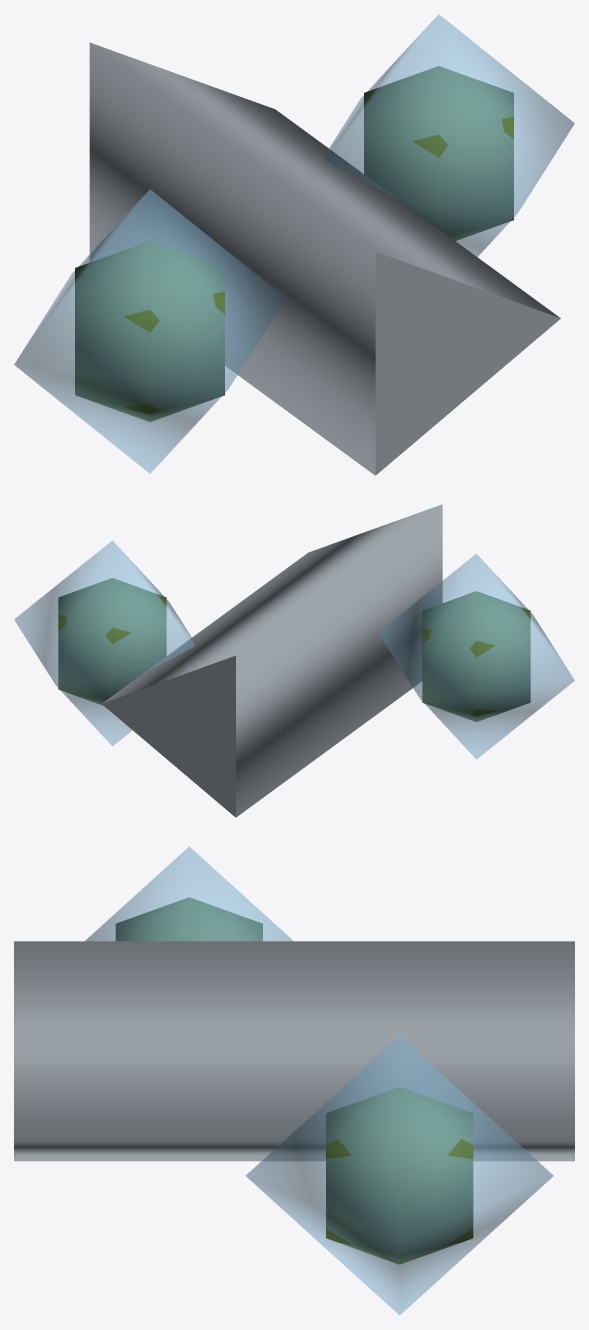
Rendered from space_orbital_hydroponics_t1_lod2.glb.
3 renders of one model, top to bottom at view 1: azimuth 30°, elevation 25°; view 2: azimuth 150°, elevation 25°; view 3: azimuth 270°, elevation 25°, orthographic. The views are drawn at different scales.
Parts seen in each view (by area): view 1: body; view 2: body; view 3: body.
Part boxes in pixels (x1,y1,x2,y2): body: (14,14,574,475); body: (14,504,574,817); body: (14,846,574,1315).
Size of the model in its own units: 10.8 by 4.4 by 8.
